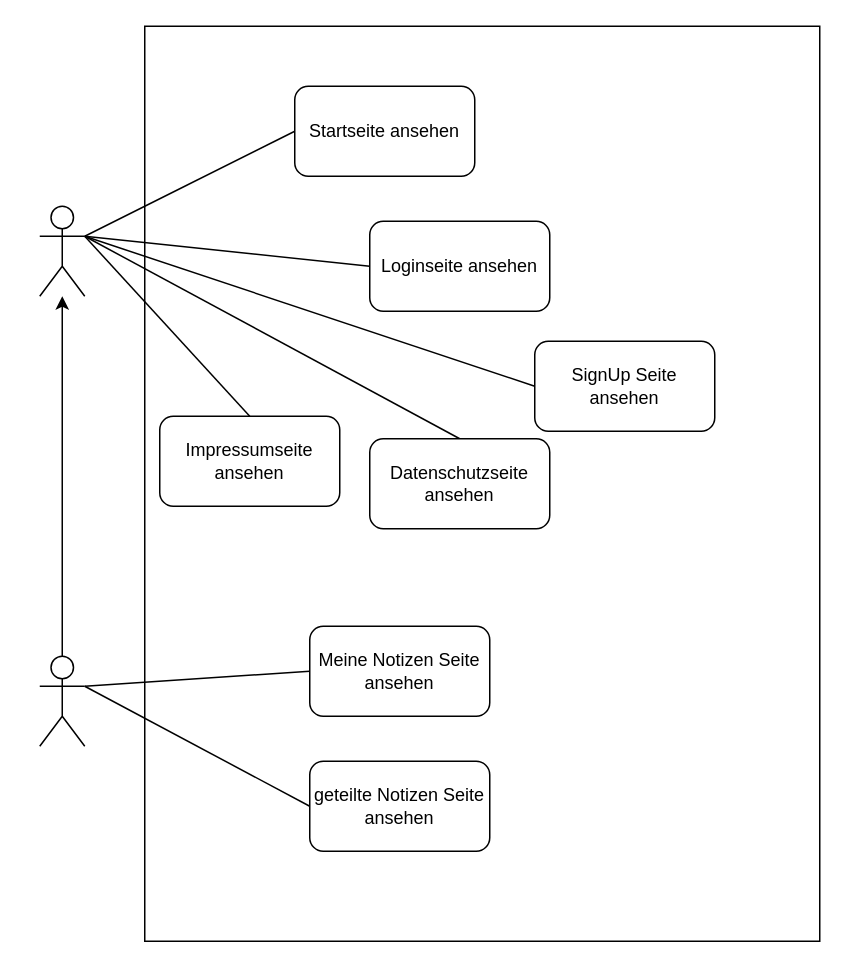
The diagram is 846 pixels wide and 968 high, and some of its shapes have lost their labels. Each missing label, with the centre of its shape:
"Benutzer" belongs at point (61, 700).
"Gast" belongs at point (61, 250).
